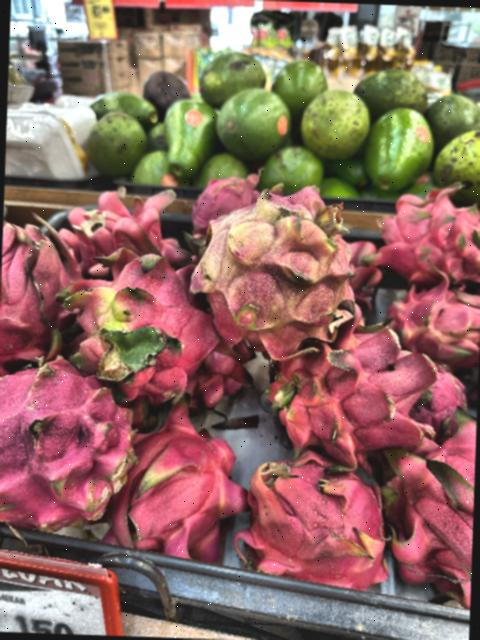buah-naga-belum-matang: (192, 192, 361, 360)
buah-naga-matang: (236, 442, 398, 596), (55, 247, 216, 396), (0, 355, 134, 533), (112, 398, 252, 568), (269, 319, 436, 461), (386, 404, 477, 614), (28, 186, 192, 272), (371, 183, 480, 288), (0, 220, 75, 362), (387, 262, 480, 364)
